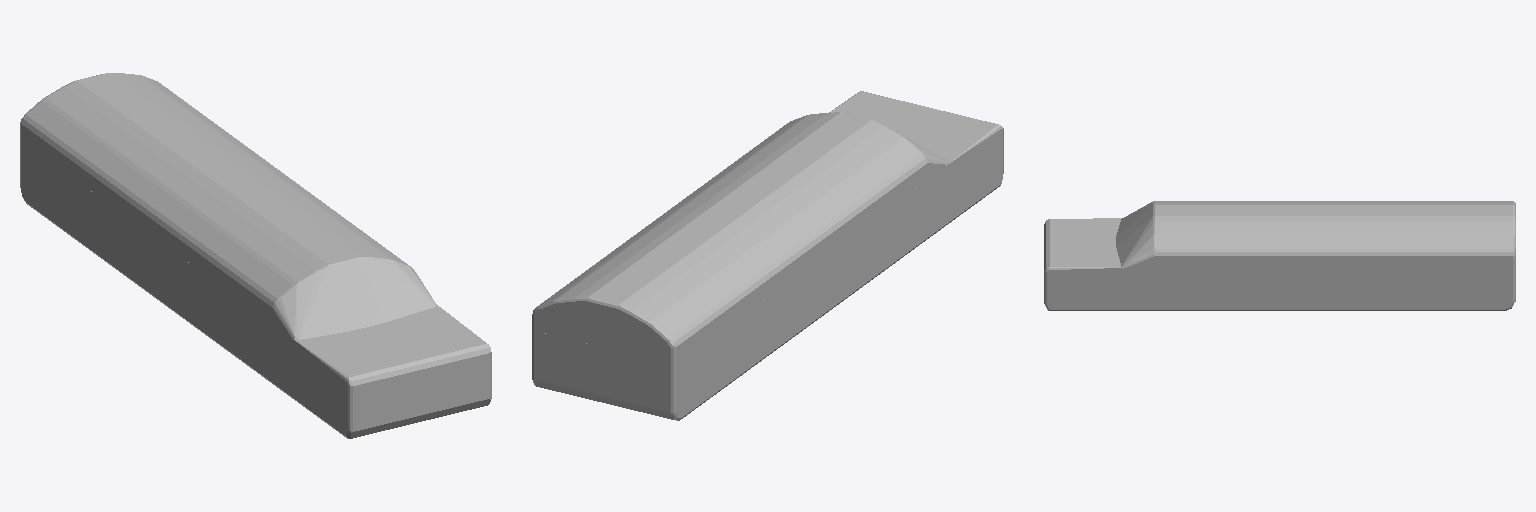
URDF robot description (root):
<?xml version="1.0"?>
<robot name="root">
  <link name="base_link">
    <visual>
      <origin xyz="0 0 0" rpy="0 0 0" />
      <geometry>
        <mesh filename="../meshes/unidex_core_remote-4df6e942001af26f16a077c4c0fc1181_012.obj" scale="1.0000E+00 1.0000E+00 1.0000E+00" />
      </geometry>
      <material name="">
        <color rgba="7.50E-01 7.50E-01 7.50E-01 1" />
      </material>
    </visual>
    <collision>
      <origin xyz="0 0 0" rpy="0 0 0" />
      <geometry>
        <mesh filename="../meshes/unidex_core_remote-4df6e942001af26f16a077c4c0fc1181_012.obj" scale="1.0000E+00 1.0000E+00 1.0000E+00" />
      </geometry>
    </collision>
  </link>
</robot>

--- Facts derived from the render (not from the file) ---
3 views of the same robot in one strip: view 1: azimuth 30°, elevation 25°; view 2: azimuth 150°, elevation 25°; view 3: azimuth 270°, elevation 25° (orthographic).
Robot: root — 1 links, 0 joints (none); root link base_link; default pose: all joints at 0.
Visible links, largest first — view 1: base_link; view 2: base_link; view 3: base_link.
Link boxes in pixels (x1=…): base_link: x1=20, y1=73, x2=491, y2=438; base_link: x1=532, y1=91, x2=1003, y2=420; base_link: x1=1044, y1=201, x2=1515, y2=310.
Size in the robot's own frame: 0.0566 by 0.2264 by 0.0418 metres.
Meshes: 1 distinct files referenced, 1 mesh visuals loaded (1 OBJ).
